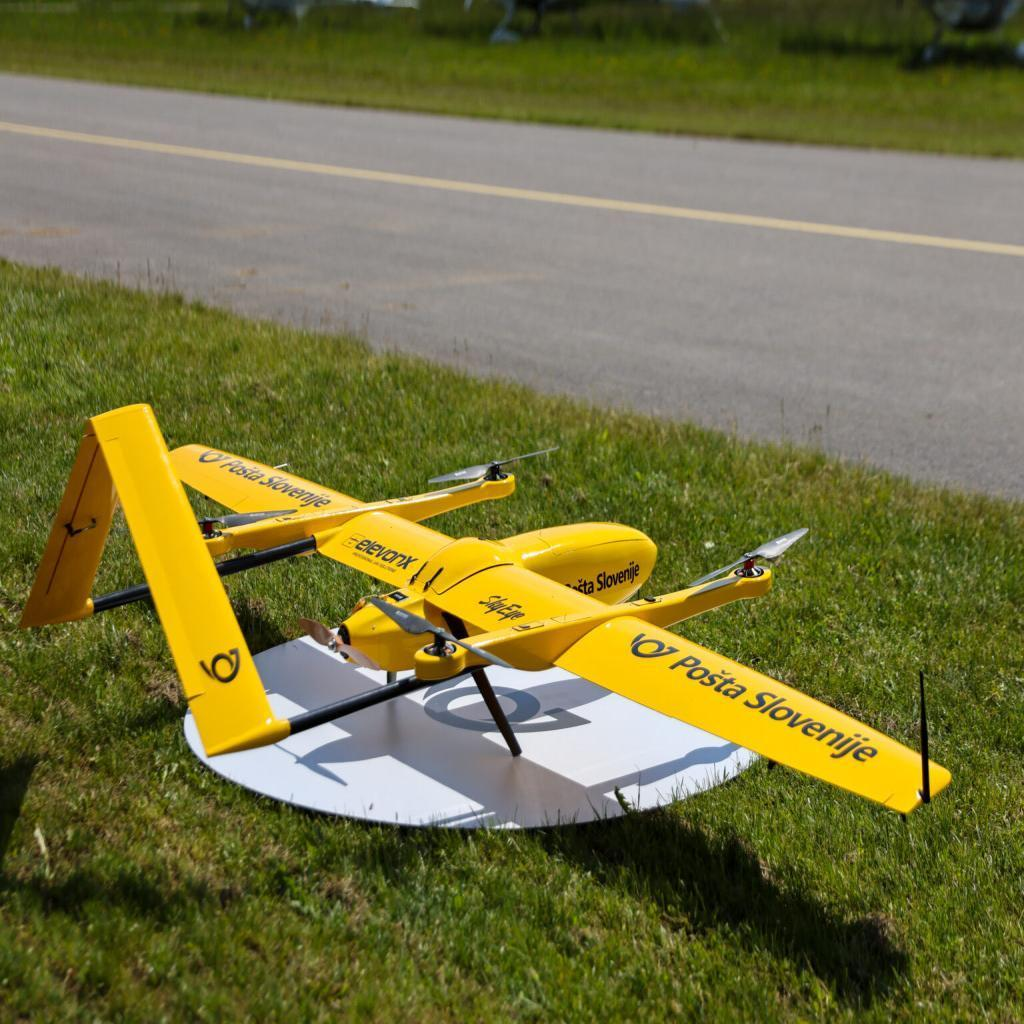drone: (17, 386, 959, 879)
